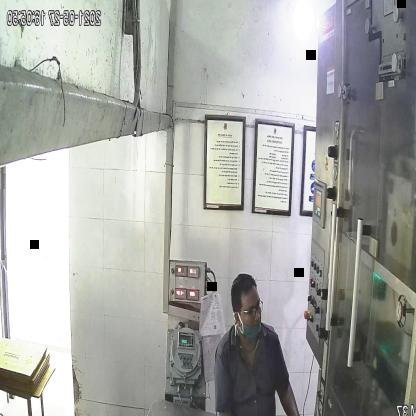goggles: (231, 298, 264, 324)
